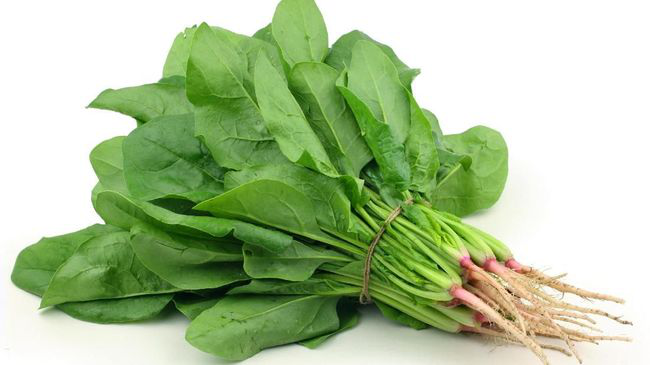Bayam: (13, 19, 640, 363)
